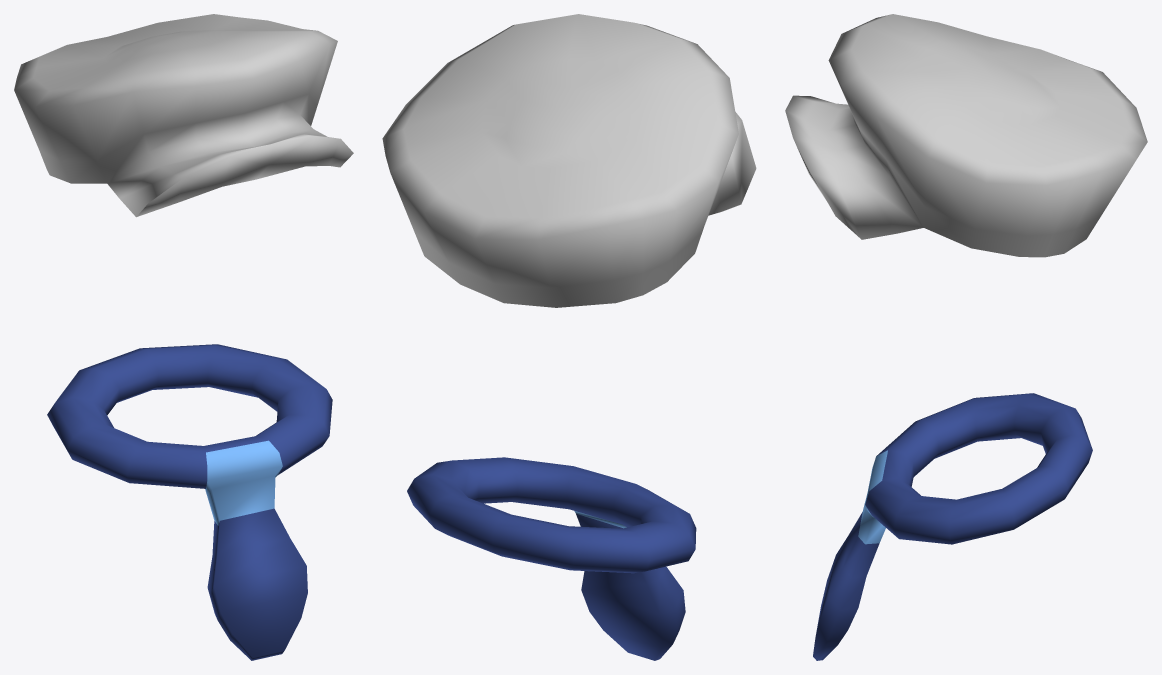
File: TIE AND HAT.fbx
The picture shows the model from 3 angles, left to right: view 1: azimuth 30°, elevation 25°; view 2: azimuth 150°, elevation 25°; view 3: azimuth 270°, elevation 25°; orthographic projection. The views are drawn at different scales.
Parts seen in each view (by area): view 1: HAT, TIE; view 2: HAT, TIE; view 3: HAT, TIE.
Part boxes in pixels (bbox=[...]): HAT: bbox=[14, 14, 353, 217]; TIE: bbox=[47, 344, 332, 660]; HAT: bbox=[382, 14, 756, 307]; TIE: bbox=[407, 457, 696, 660]; HAT: bbox=[785, 14, 1147, 257]; TIE: bbox=[813, 393, 1092, 660].
Bounding box in the file's own units: 503 × 995 × 543.
